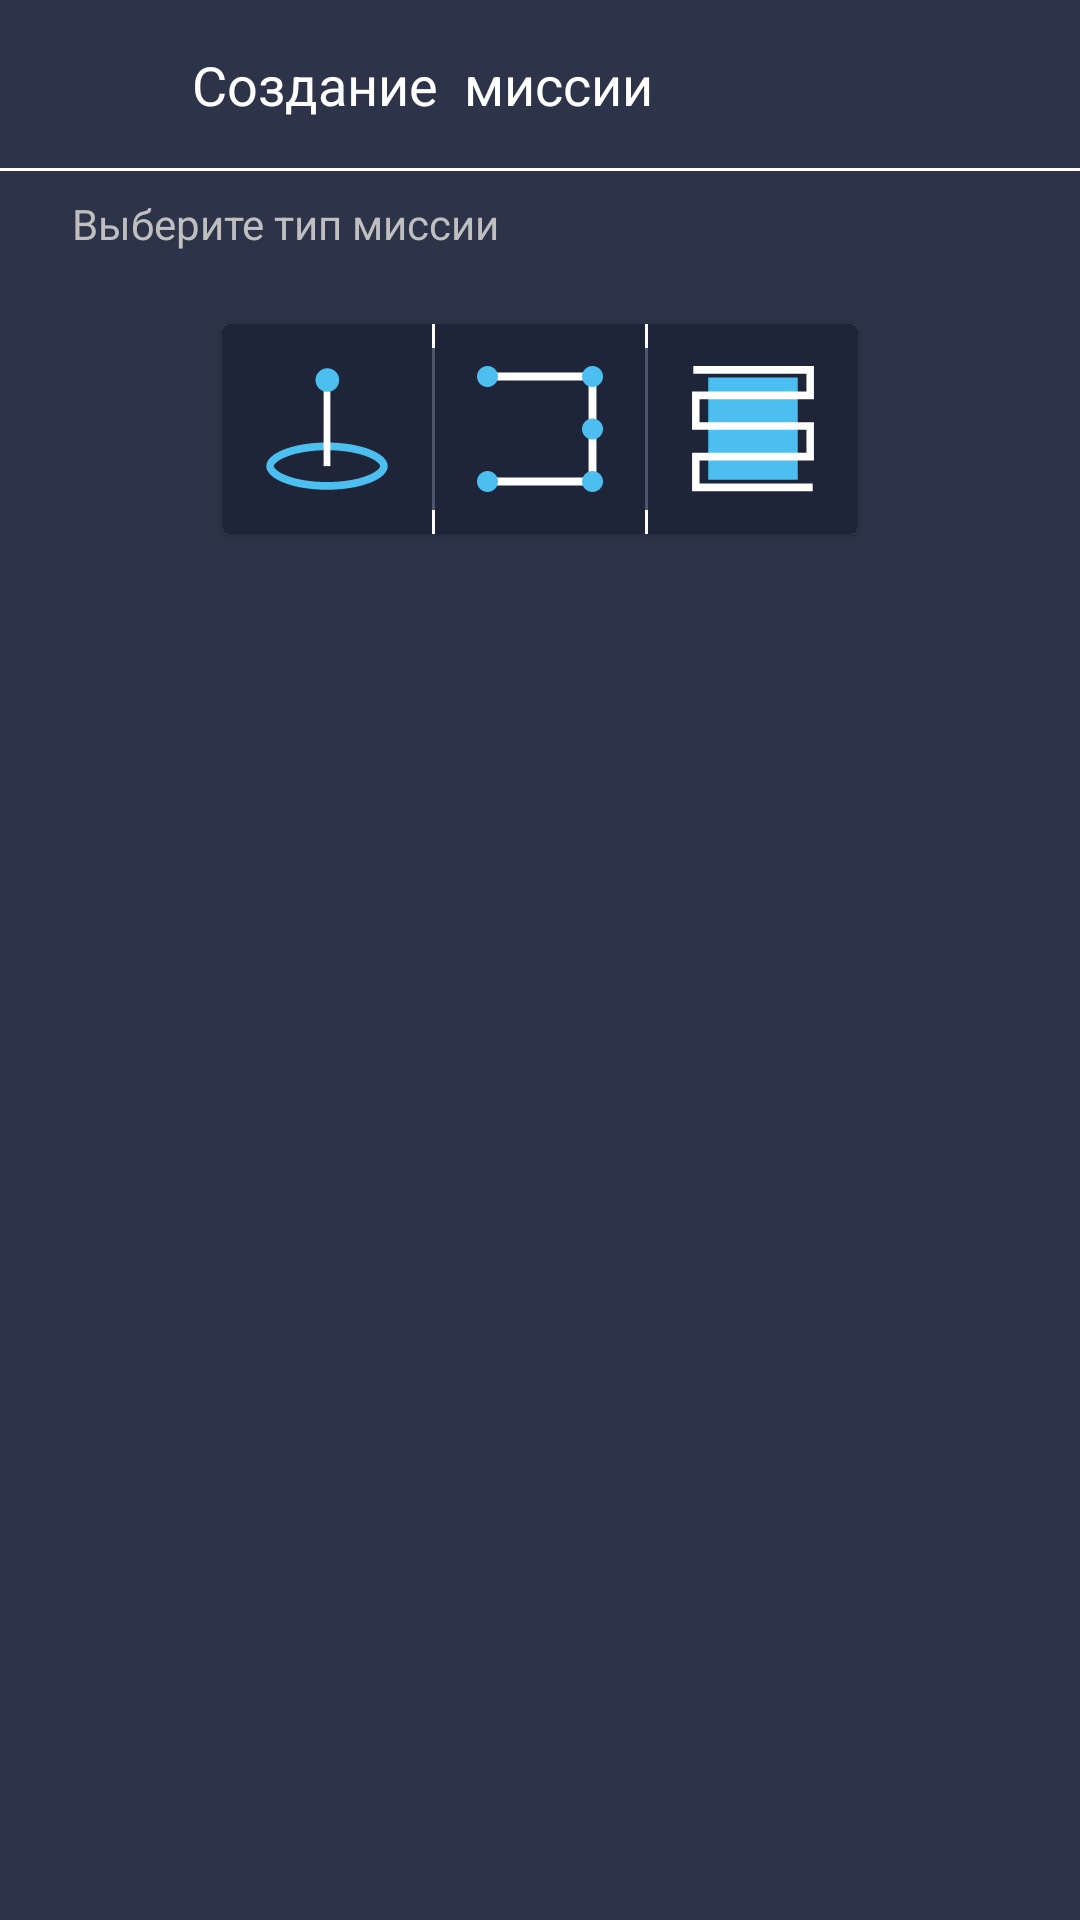

Named icons in this screenshot (1080w x 1920h) and their bounding boxes, (x1, y1, x2, y2):
areal shooting: (692, 366, 814, 492)
